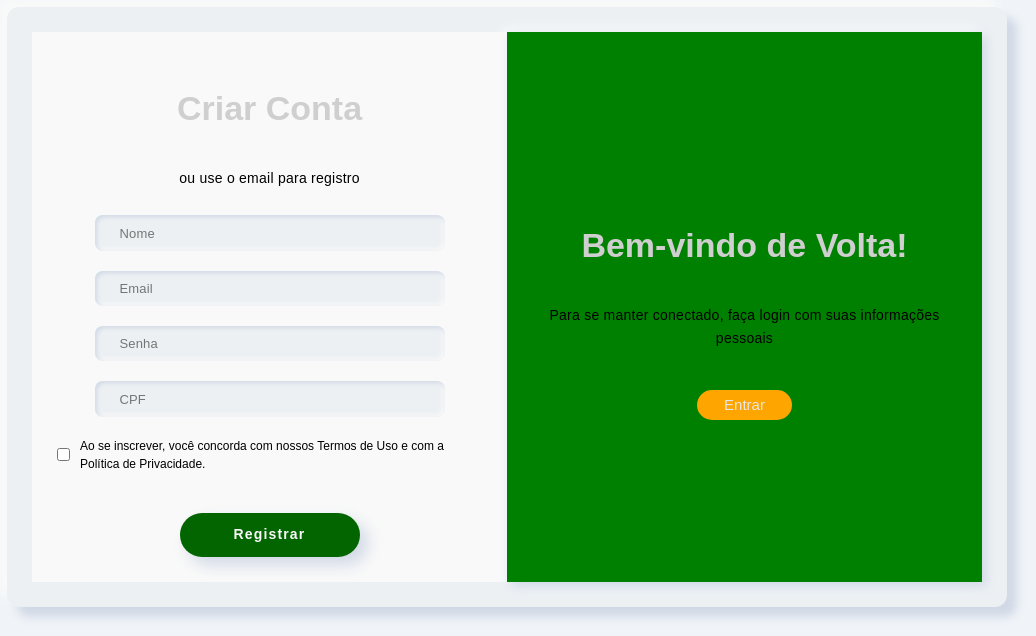
it: Testes da página Register › Mostra erro ao falhar conexão com Supabase
In the field with placeholder "Nome": (270, 233) [94, 215, 444, 251], type "Fulano"
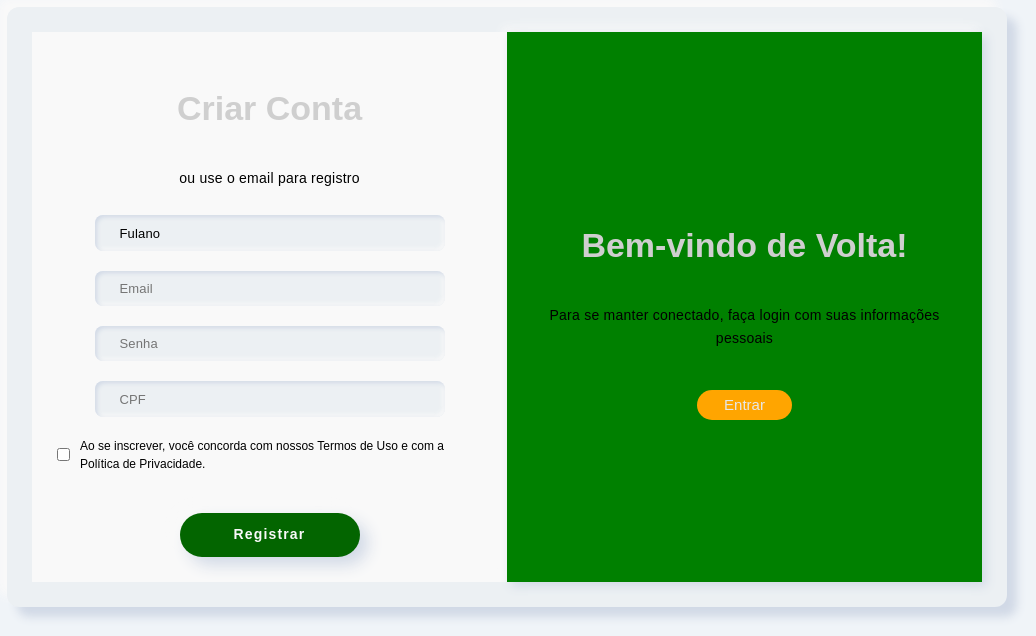
In the field with placeholder "Email": (270, 288) [94, 271, 444, 306], type "novo@teste.com"
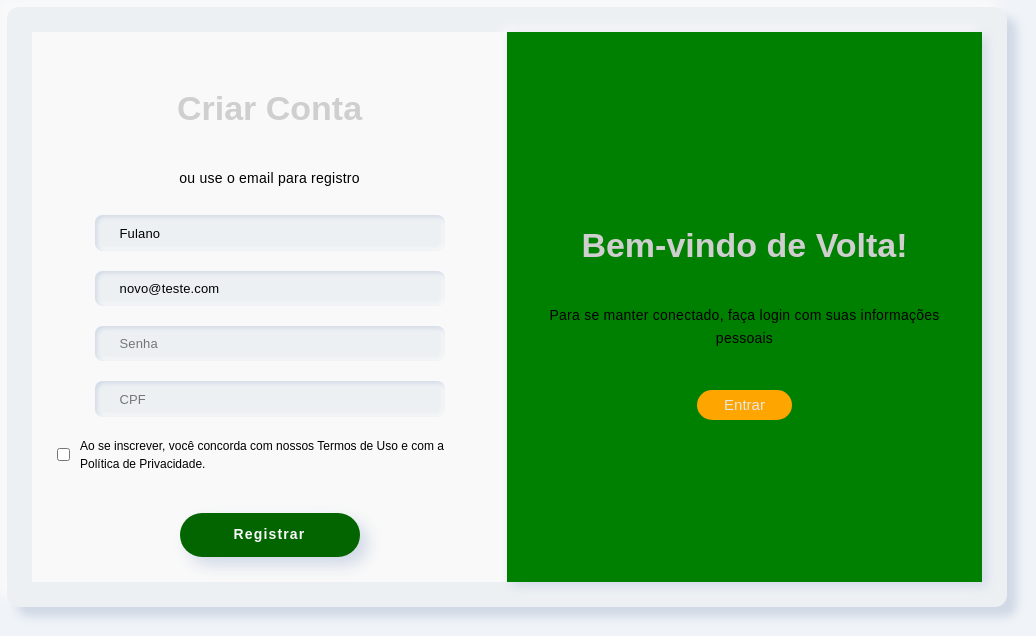
In the password field with placeholder "Senha": (270, 344) [94, 326, 444, 362], type "123456"
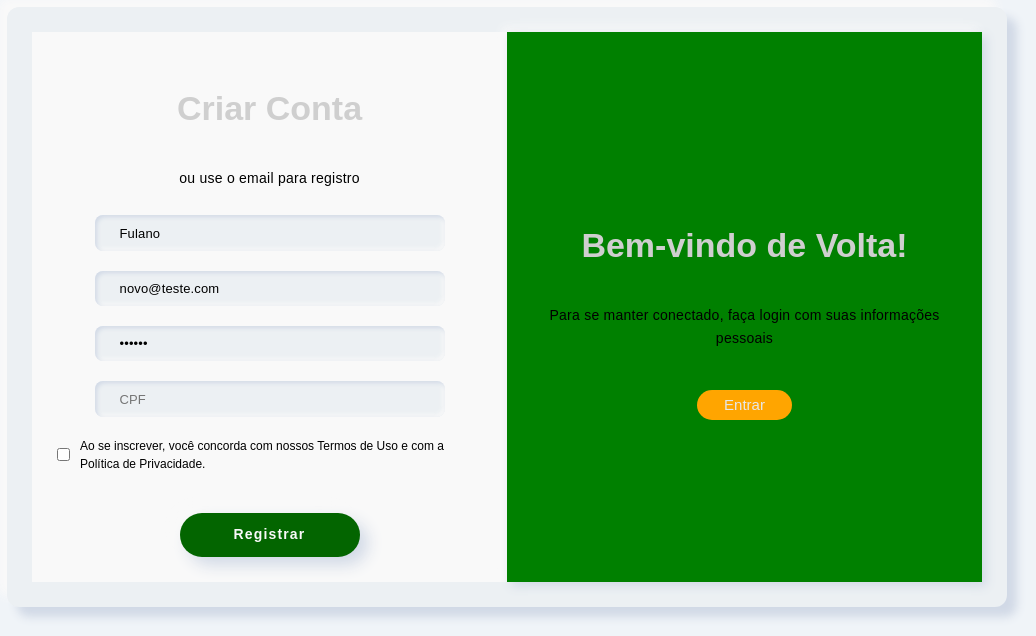
In the field with placeholder "CPF": (270, 399) [94, 382, 444, 417], type "12345678900"
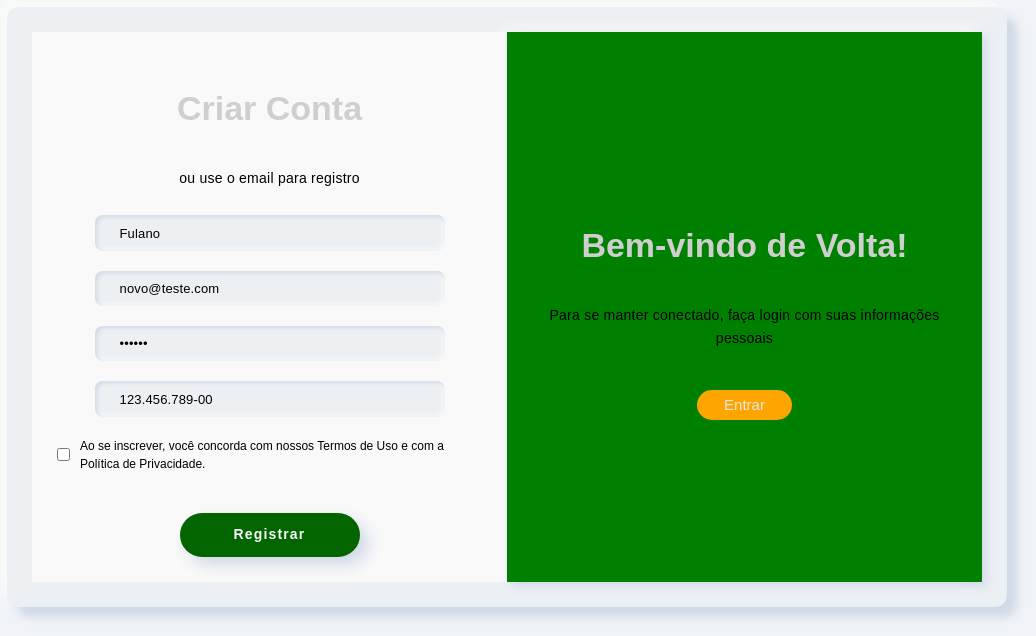
Click the checkbox: (64, 455) [57, 448, 70, 461]
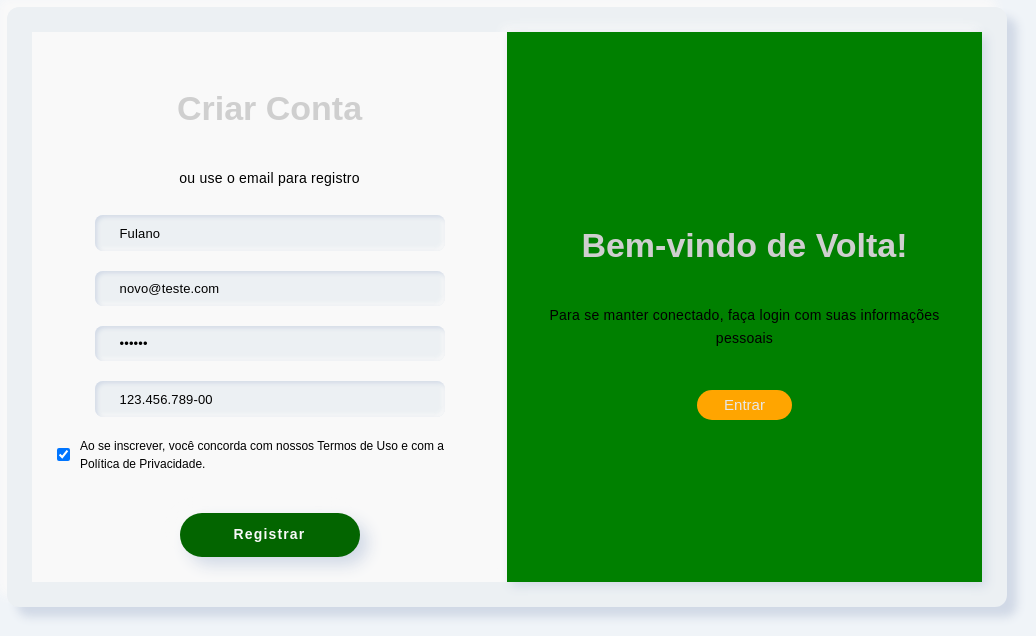
Click the button "Registrar": (270, 535) [180, 513, 360, 557]
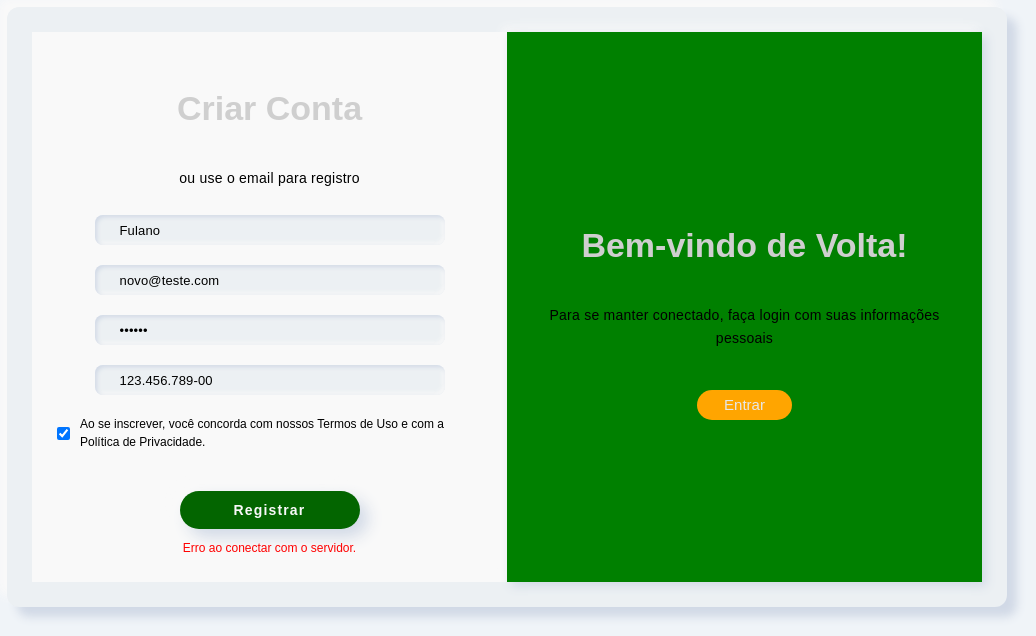
Expected: the text "Erro ao conectar com o servidor." is shown, [183, 539, 356, 557]
